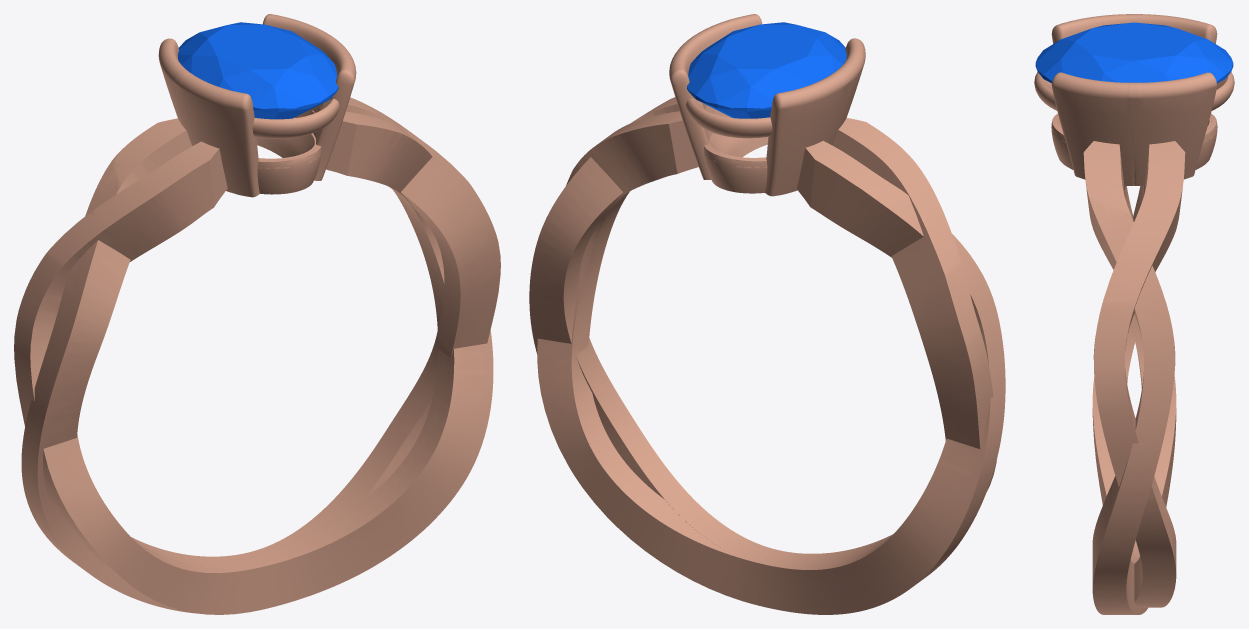
The model's file is bluesapphire-oval-rosegold-halfmoonbezel-twist-nosidestones.glb.
3 views of the same model, side by side, from view 1: azimuth 30°, elevation 25°; view 2: azimuth 150°, elevation 25°; view 3: azimuth 270°, elevation 25° (orthographic).
Parts seen in each view (by area): view 1: metal.003, stone; view 2: metal.003, stone; view 3: metal.003, stone.
Boxes of the visible parts, <box> form: metal.003: <box>14,14,500,614</box>; stone: <box>178,22,338,119</box>; metal.003: <box>529,14,1005,614</box>; stone: <box>687,22,846,118</box>; metal.003: <box>1034,14,1234,614</box>; stone: <box>1035,22,1233,83</box>.
Size of the model in its own units: 19.97 by 23.31 by 7.75.
